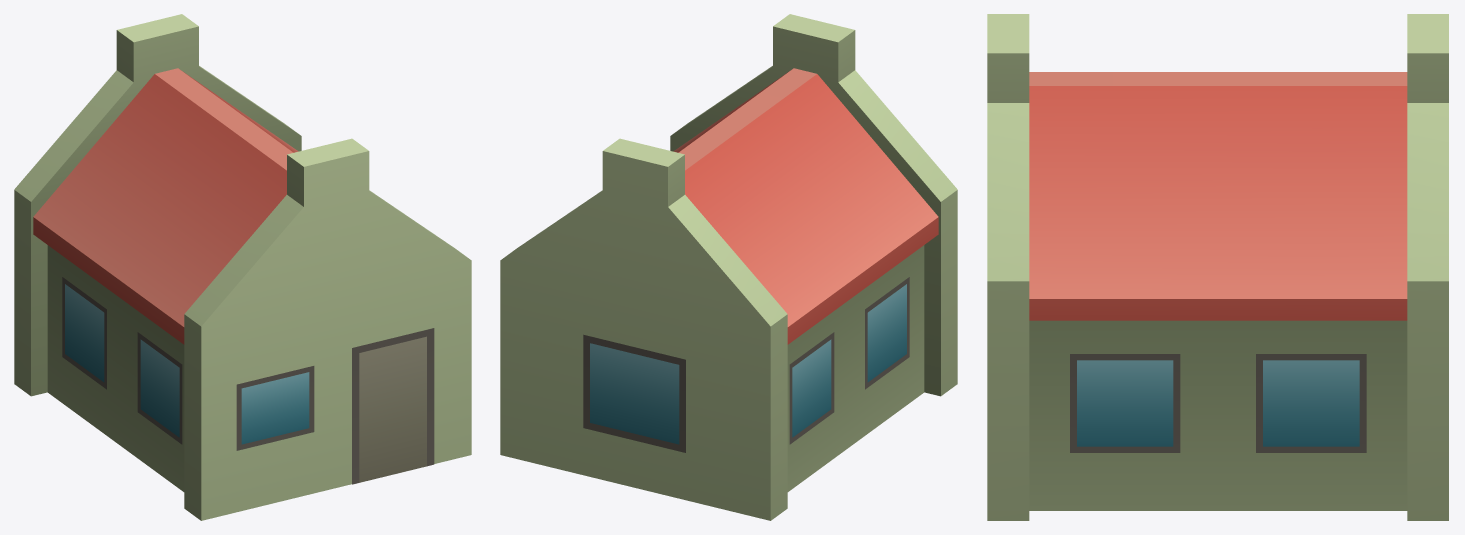
File: House_M_B.fbx
The picture shows the model from 3 angles, left to right: view 1: azimuth 30°, elevation 25°; view 2: azimuth 150°, elevation 25°; view 3: azimuth 270°, elevation 25°; orthographic projection. The views are drawn at different scales.
Visible parts, largest first — view 1: House_M_B; view 2: House_M_B; view 3: House_M_B.
Boxes of the visible parts, x1,y1,x2,y2 form: House_M_B: [14, 14, 471, 520]; House_M_B: [500, 14, 957, 520]; House_M_B: [987, 14, 1448, 520].
Size of the model in its own units: 619 by 719 by 746.
